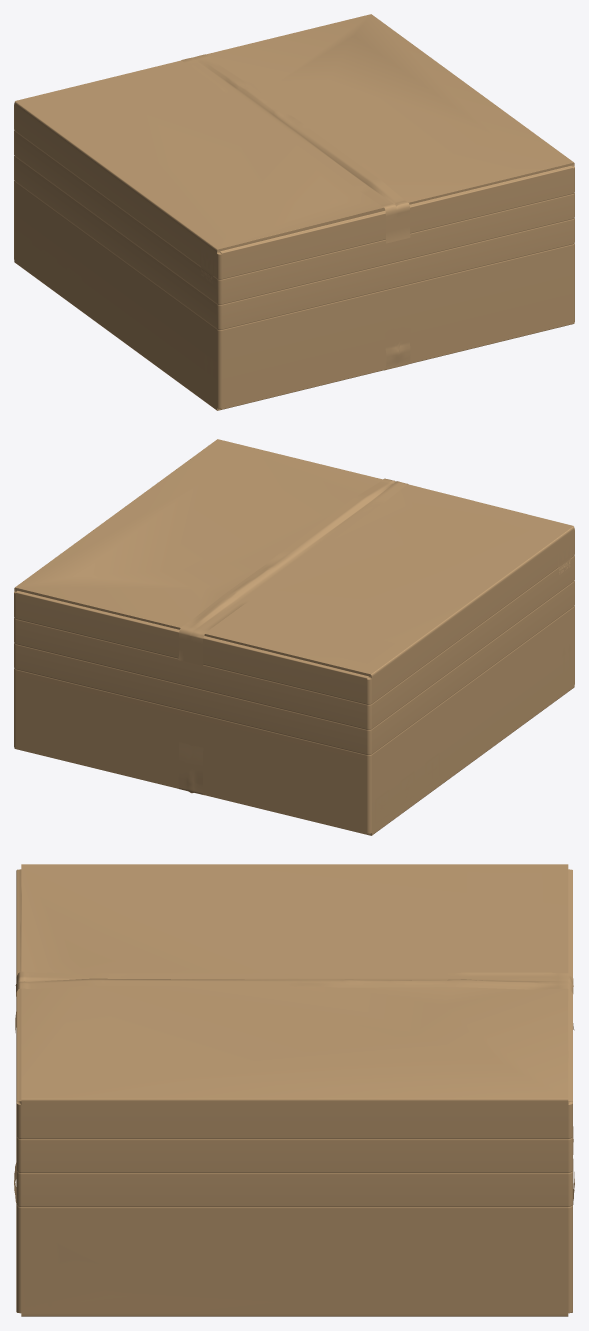
The model's file is box_multiDepth_brown_b07.glb.
The picture shows the model from 3 angles, top to bottom: view 1: azimuth 30°, elevation 25°; view 2: azimuth 150°, elevation 25°; view 3: azimuth 270°, elevation 25°; orthographic projection. The views are drawn at different scales.
Size of the model in its own units: 0.3559 by 0.1587 by 0.358.
